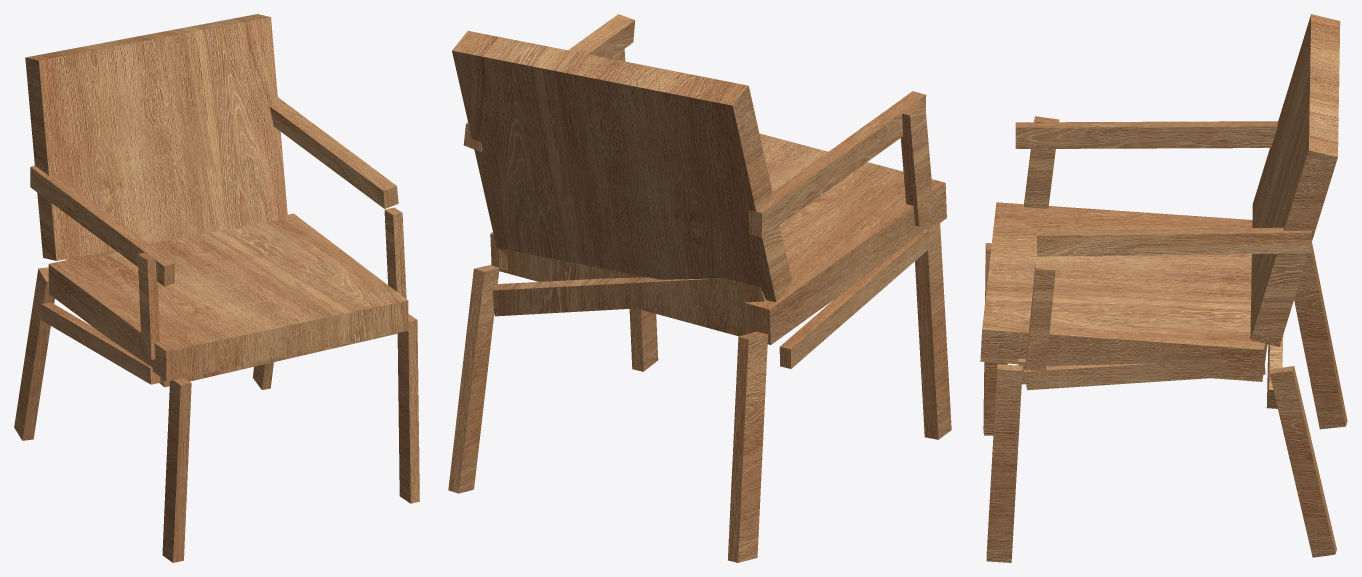
The model's file is 40338_ours.glb.
3 renders of one model, left to right at view 1: azimuth 30°, elevation 25°; view 2: azimuth 150°, elevation 25°; view 3: azimuth 270°, elevation 25°, orthographic. The views are drawn at different scales.
Parts seen in each view (by area): view 1: ParentEmpty; view 2: ParentEmpty; view 3: ParentEmpty.
Boxes of the visible parts, x1,y1,x2,y2 form: ParentEmpty: [14, 14, 419, 562]; ParentEmpty: [448, 14, 951, 562]; ParentEmpty: [980, 14, 1347, 562].
Bounding box in the file's own units: 0.6927 × 1 × 0.7828.
Materials: 1 (1 with a texture image).
